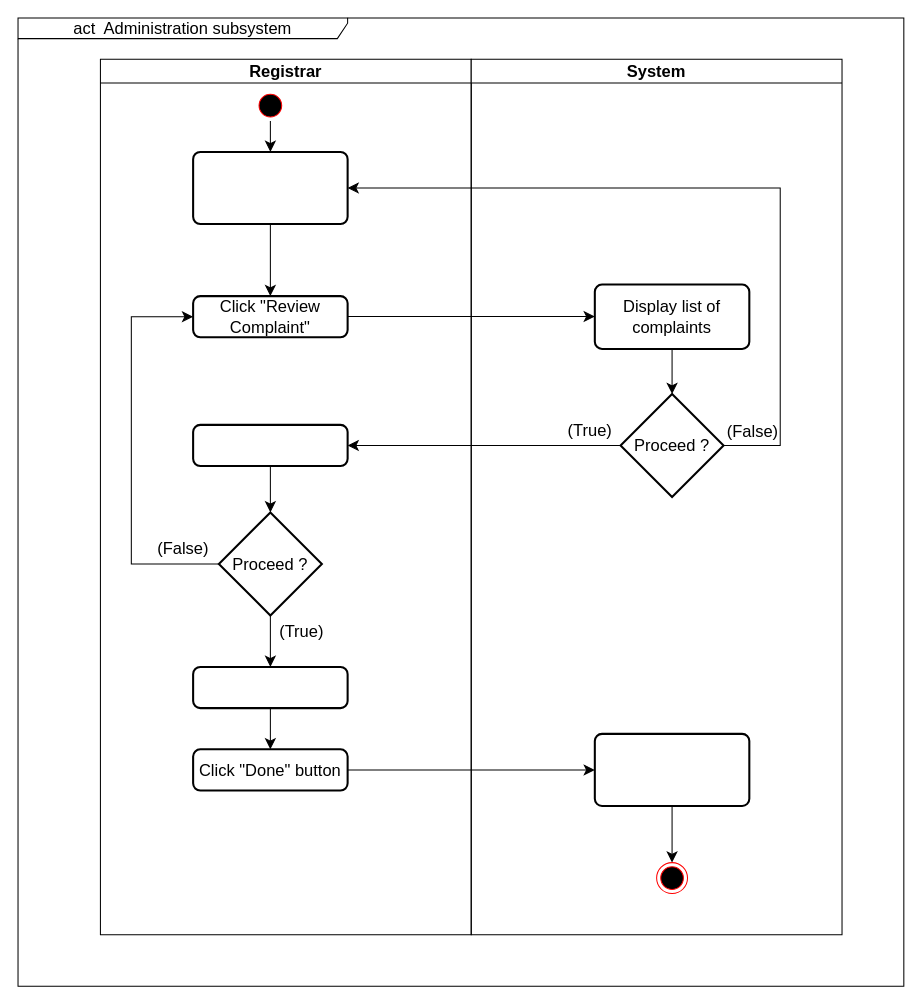
This 922x1004 diagram has some shape labels left out. The centre of each missing label's shape, as x and y in pixels:
Click "Payment" button: (270,445)
Go to "Admin Portal Room Management" page: (270,187)
Notify students that complaint has been resolved: (671,769)
Takes necessary actions: (270,687)
